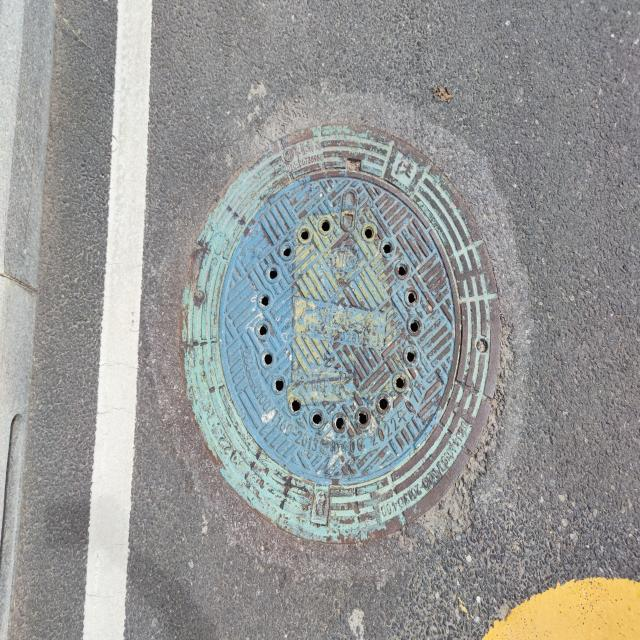Good: (176, 119, 504, 554)
